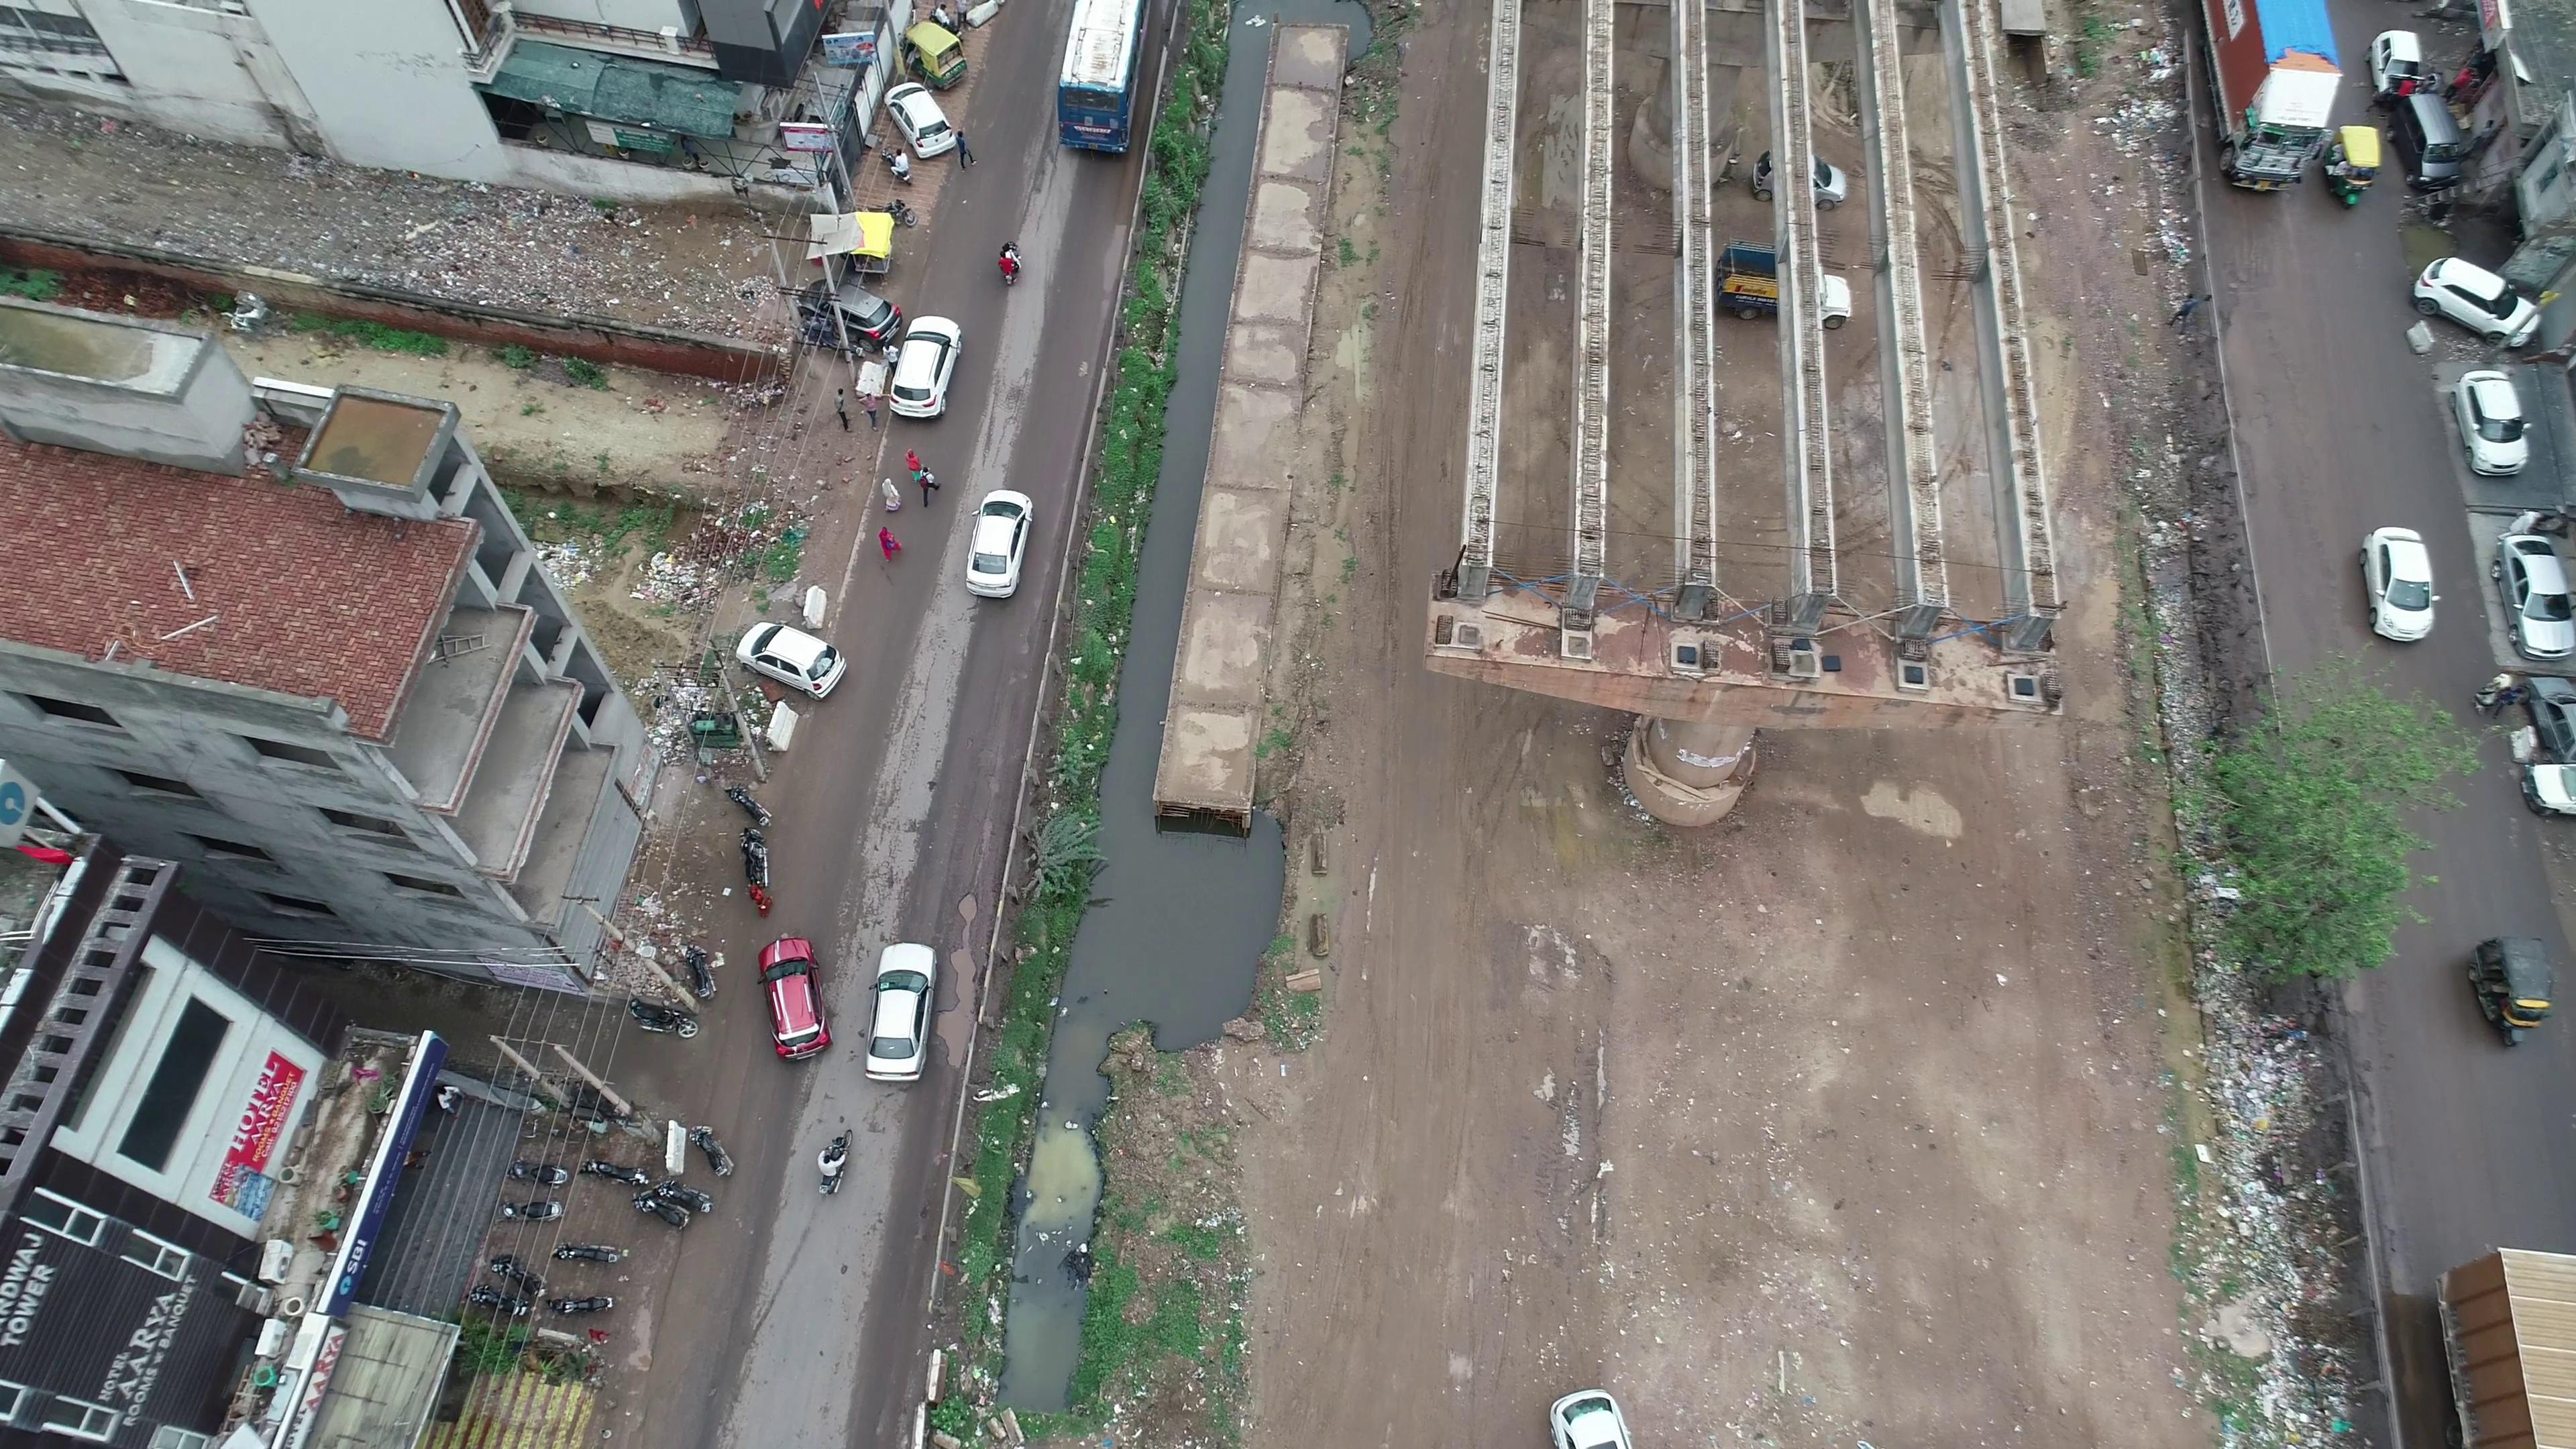Muddy_road: (2226, 219, 2358, 506)
